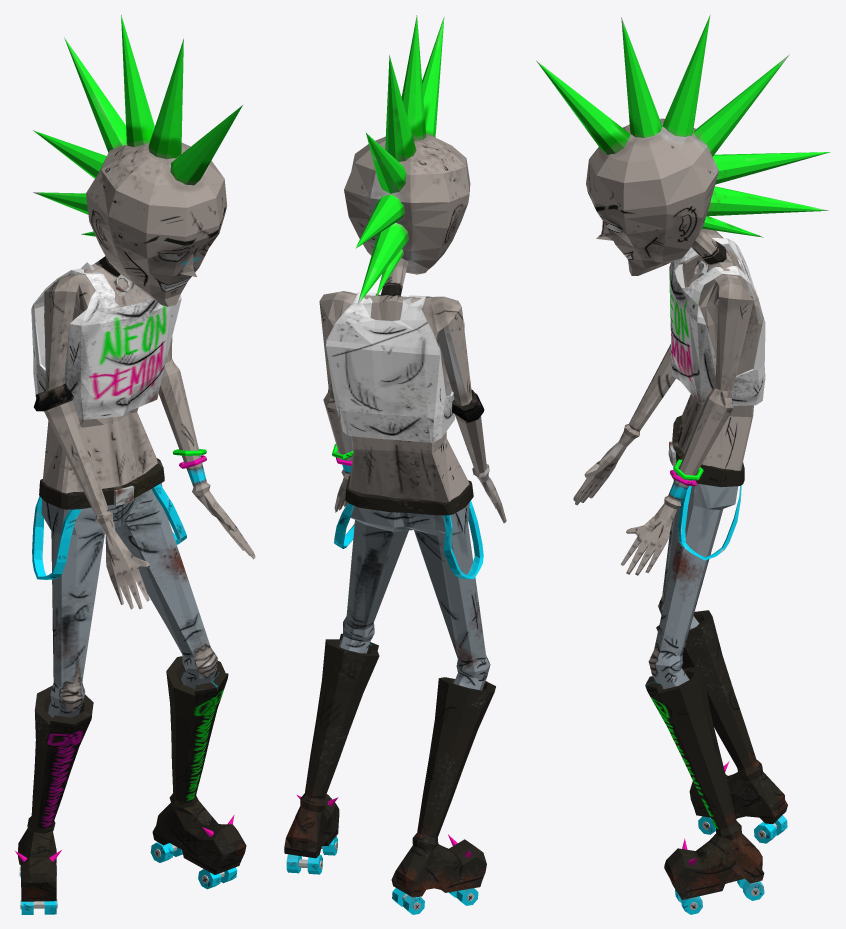
File: punkAnimation_000045.obj
3 renders of one model, left to right at view 1: azimuth 30°, elevation 25°; view 2: azimuth 150°, elevation 25°; view 3: azimuth 270°, elevation 25°, orthographic. The views are drawn at different scales.
Parts seen in each view (by area): view 1: Cube.004_Cube.003; view 2: Cube.004_Cube.003; view 3: Cube.004_Cube.003.
Part boxes in pixels (x1,y1,x2,y2): Cube.004_Cube.003: [15, 14, 255, 914]; Cube.004_Cube.003: [284, 15, 506, 914]; Cube.004_Cube.003: [536, 15, 830, 914].
Bounding box in the file's own units: 1.82 × 7.4 × 2.31.
